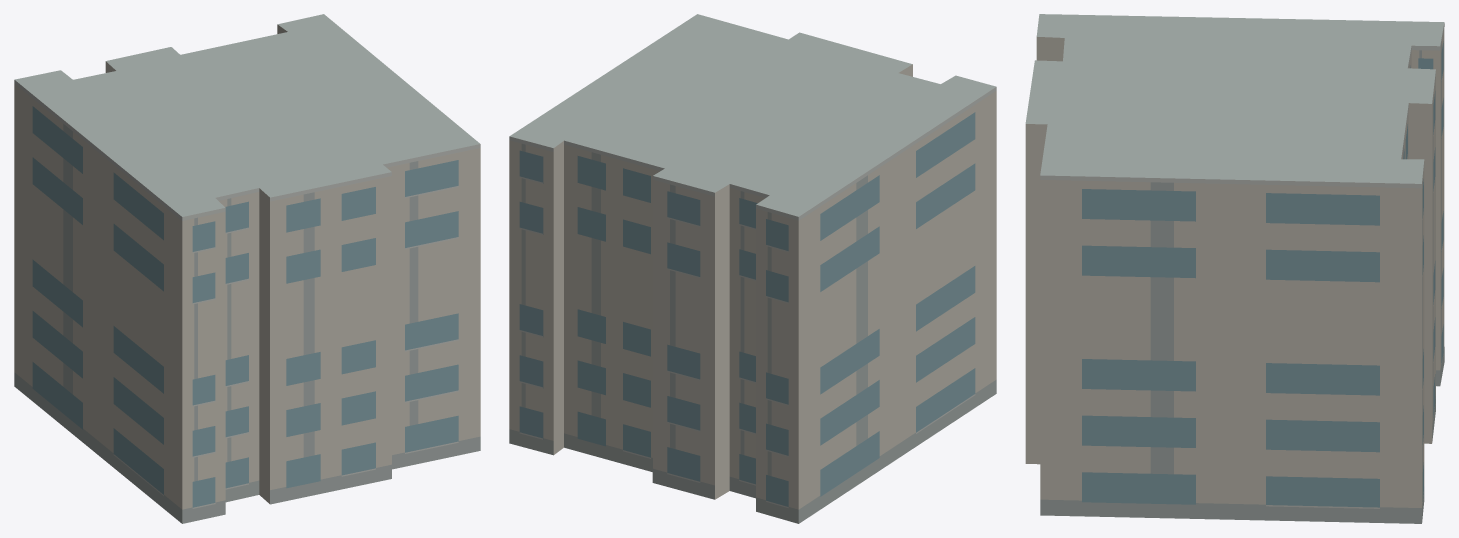
Rendered from survey-upis-33013683.glb.
3 views of the same model, side by side, from view 1: azimuth 30°, elevation 25°; view 2: azimuth 150°, elevation 25°; view 3: azimuth 270°, elevation 25° (orthographic). The views are drawn at different scales.
Parts seen in each view (by area): view 1: survey-upis-33013683.tmp; view 2: survey-upis-33013683.tmp; view 3: survey-upis-33013683.tmp.
Part boxes in pixels (left/top/right/bottom): survey-upis-33013683.tmp: left=14, top=14, right=480, bottom=523; survey-upis-33013683.tmp: left=509, top=14, right=996, bottom=523; survey-upis-33013683.tmp: left=1025, top=14, right=1444, bottom=523.
Bounding box in the file's own units: 20.49 × 19.1 × 21.34.
